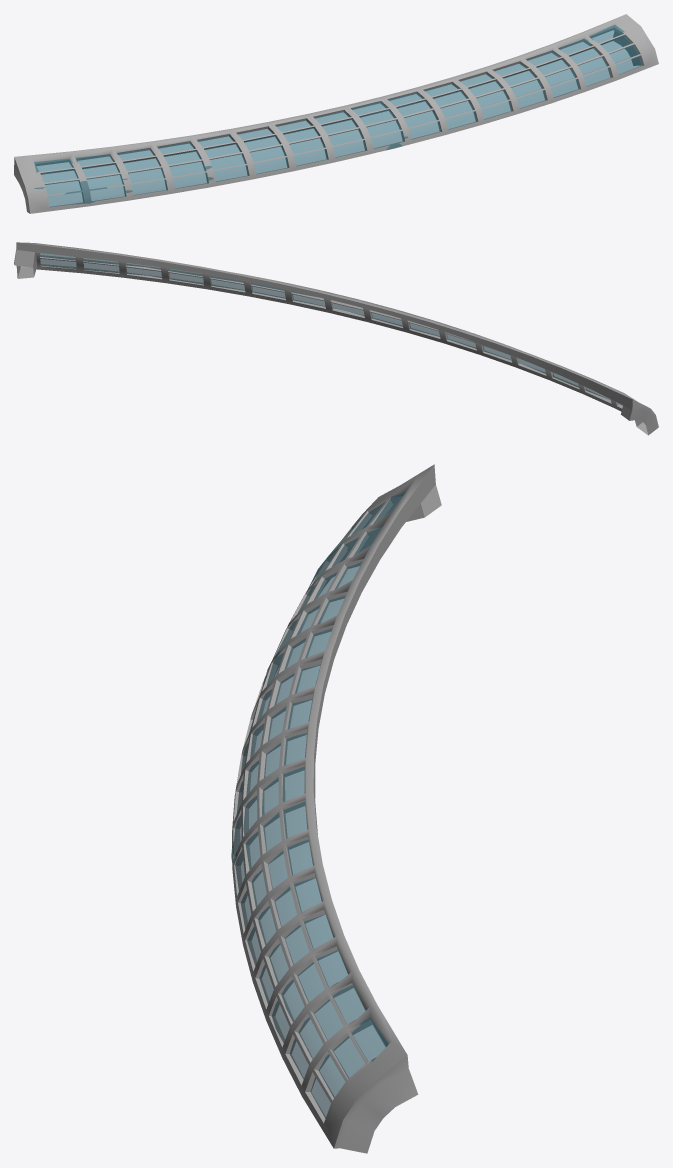
The model's file is SM_SmallWindow.fbx.
3 renders of one model, top to bottom at view 1: azimuth 30°, elevation 25°; view 2: azimuth 150°, elevation 25°; view 3: azimuth 270°, elevation 25°, orthographic. The views are drawn at different scales.
Parts seen in each view (by area): view 1: pCube50; view 2: pCube50; view 3: pCube50.
Boxes of the visible parts, x1,y1,x2,y2 form: pCube50: (14,14,658,213); pCube50: (14,242,658,435); pCube50: (231,464,441,1153).
Size of the model in its own units: 2135 by 147 by 312.
